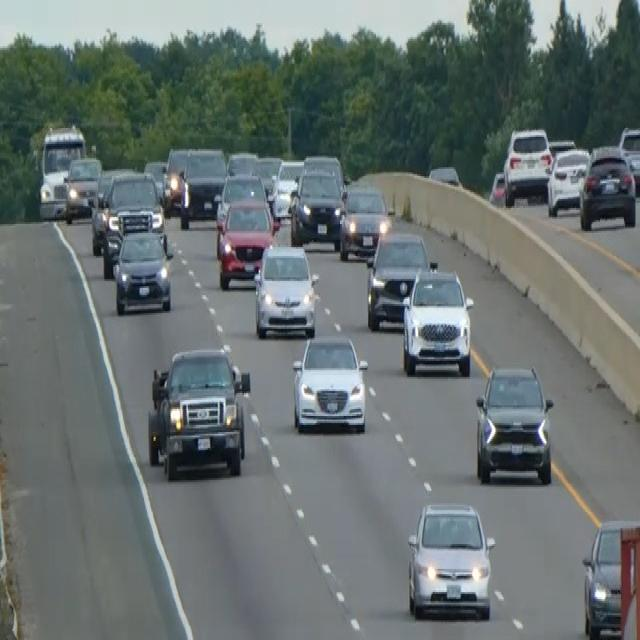car: (406, 500, 495, 620), (474, 361, 554, 485), (401, 263, 473, 377), (291, 332, 368, 434), (581, 518, 639, 638), (101, 170, 165, 276), (365, 228, 431, 330), (252, 242, 317, 338), (216, 196, 275, 288), (112, 226, 173, 314), (578, 146, 636, 231), (289, 165, 344, 249), (338, 182, 390, 260), (502, 124, 552, 204), (89, 166, 134, 254), (179, 146, 226, 228), (546, 146, 590, 215), (216, 170, 267, 228), (63, 155, 102, 222), (269, 158, 304, 220), (302, 151, 346, 196), (162, 146, 190, 212), (617, 124, 639, 192), (254, 155, 281, 197), (143, 158, 167, 203), (226, 149, 257, 176), (428, 164, 462, 186), (488, 169, 507, 206)
jeep: (146, 343, 251, 480)
lorry: (37, 121, 87, 219)
